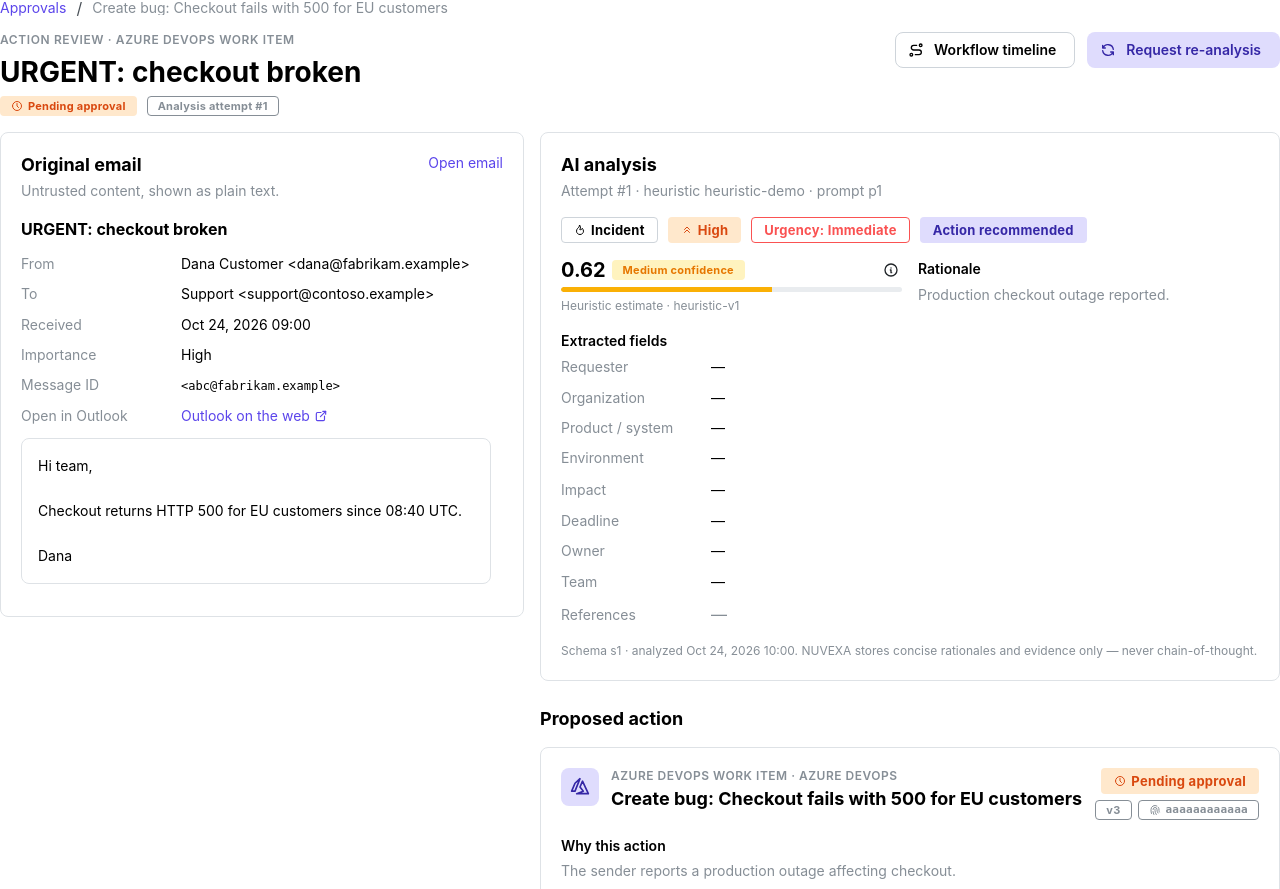
Test case: <ActionReviewPage> re-analysis › asks for confirmation, POSTs reanalyze and closes on success
Click the button "Request re-analysis" at point(1184, 50), box [1087,32,1279,68]
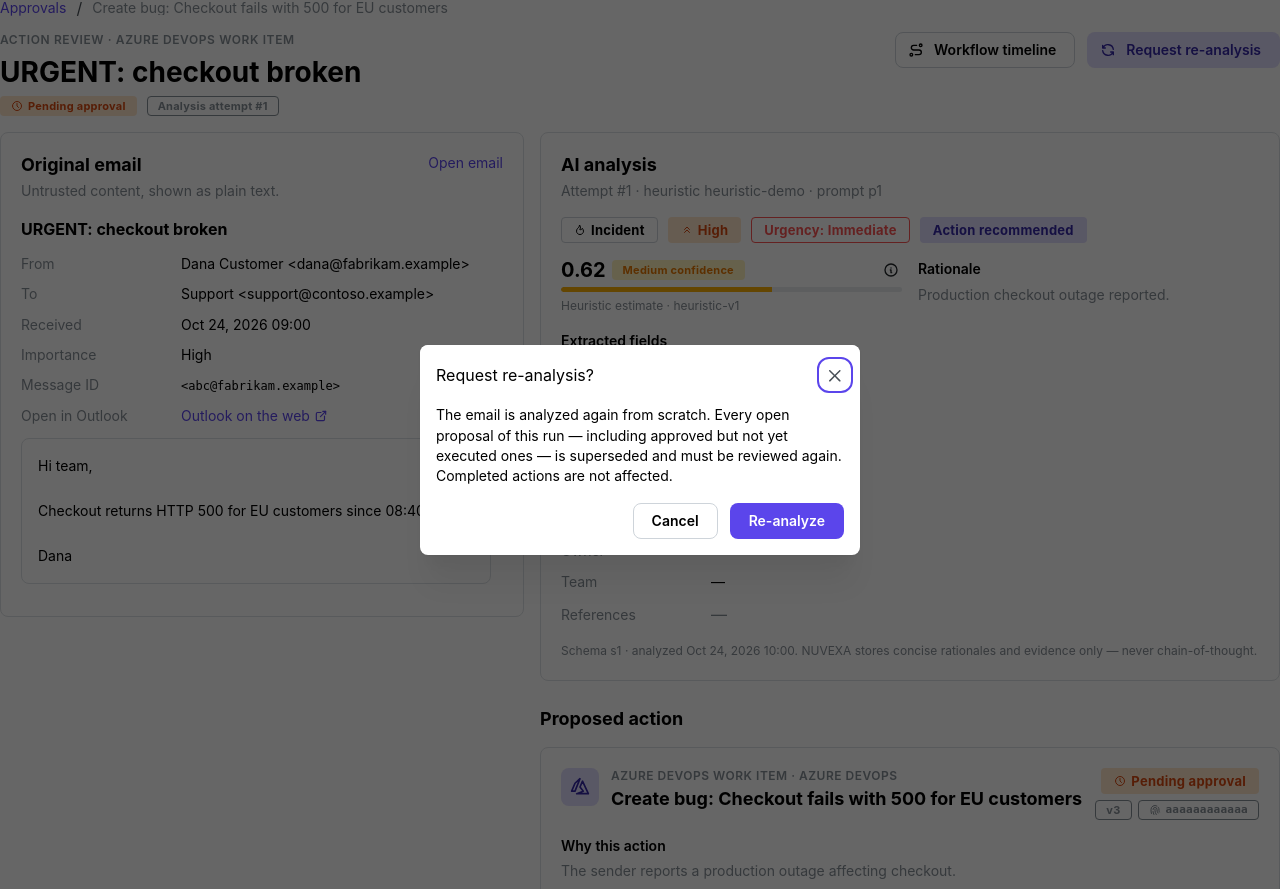
Check: the dialog "Request re-analysis?" shows "Every open proposal of this run — including approved but not yet executed ones", box [436,406,842,484]
Click the button "Re-analyze" at point(787, 521), box [730,503,844,539]
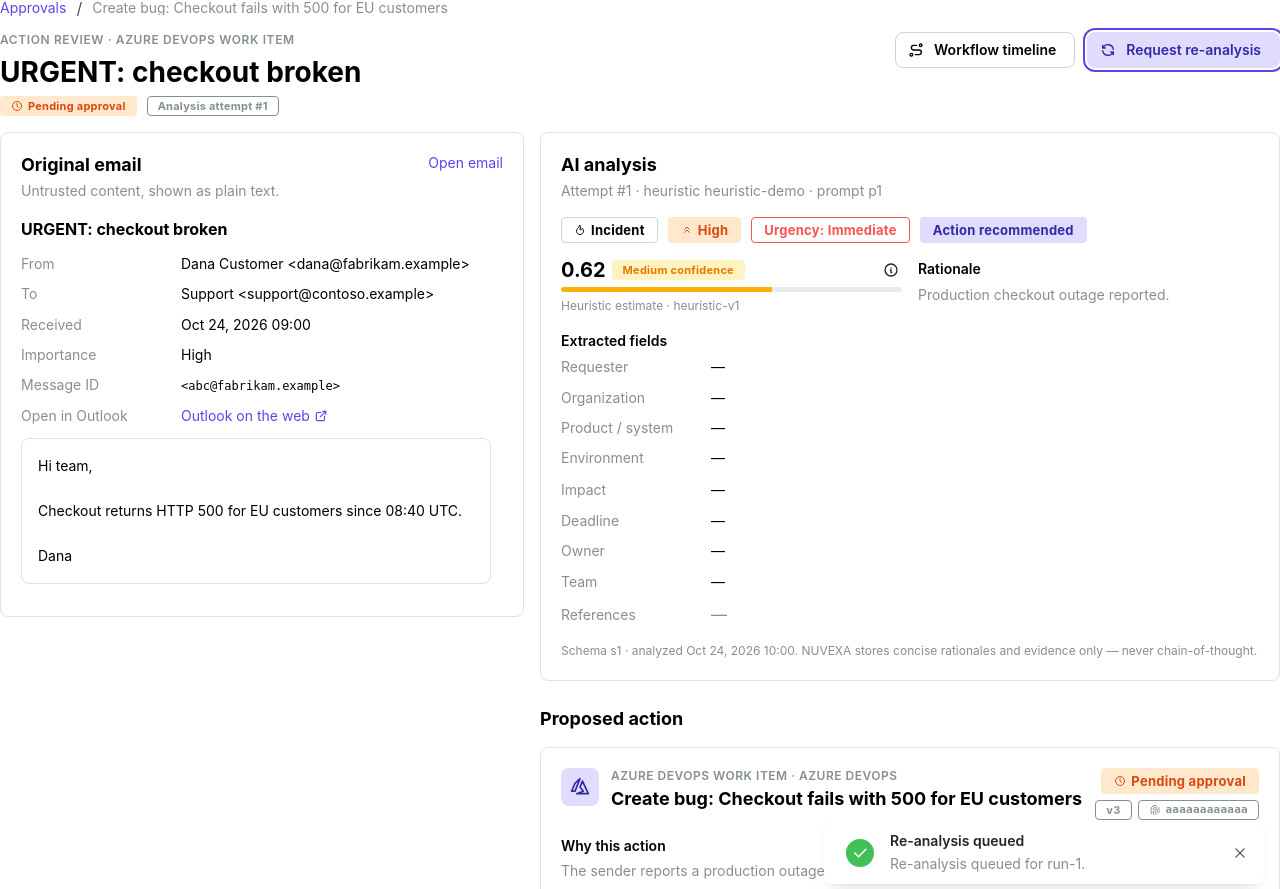
Check: the text "Re-analysis queued for run-1." is shown, box [890,855,1085,872]
Check: the dialog is gone
